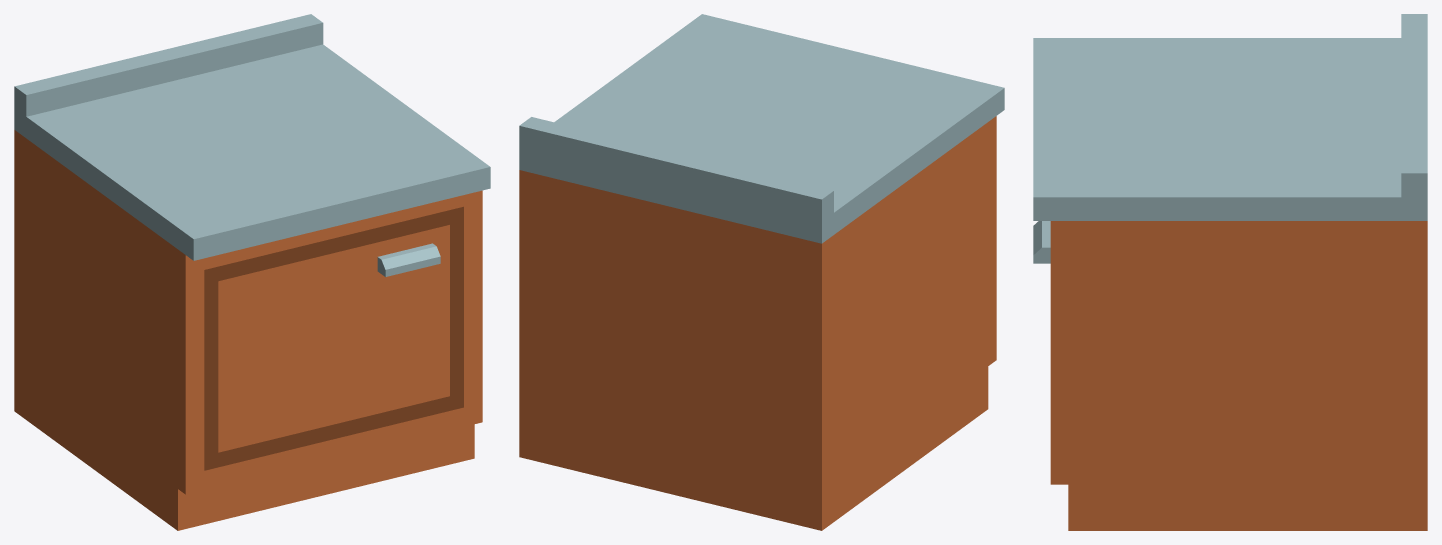
File: kitchenCabinet.glb
3 views of the same model, side by side, from view 1: azimuth 30°, elevation 25°; view 2: azimuth 150°, elevation 25°; view 3: azimuth 270°, elevation 25° (orthographic). The views are drawn at different scales.
Parts seen in each view (by area): view 1: kitchenCabinet(Clone), door; view 2: kitchenCabinet(Clone); view 3: kitchenCabinet(Clone), door.
Part boxes in pixels (x1=…): kitchenCabinet(Clone): x1=14, y1=14, x2=490, y2=530; door: x1=204, y1=206, x2=463, y2=470; kitchenCabinet(Clone): x1=519, y1=14, x2=1004, y2=530; kitchenCabinet(Clone): x1=1033, y1=14, x2=1427, y2=530; door: x1=1033, y1=221, x2=1050, y2=263.
Bounding box in the file's own units: 0.43 × 0.45 × 0.45.
Materials: 3 (3 with a texture image).
